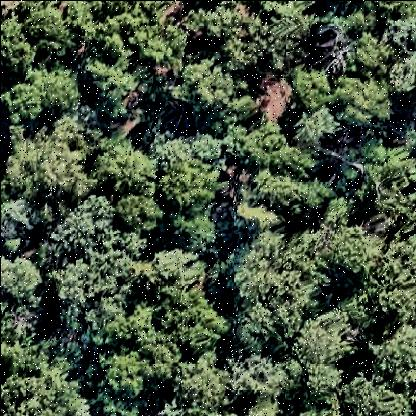tree-top: (111, 297, 219, 376), (240, 233, 323, 334), (2, 135, 90, 223), (83, 11, 159, 101), (58, 250, 142, 320), (224, 122, 318, 178), (2, 66, 88, 126), (353, 249, 416, 325), (52, 195, 121, 261), (299, 305, 365, 373), (158, 159, 232, 219), (238, 174, 336, 219), (2, 369, 95, 416), (345, 141, 409, 209), (294, 76, 392, 119), (177, 347, 238, 411), (304, 223, 375, 276), (12, 2, 78, 59), (171, 62, 236, 119), (95, 140, 155, 196), (371, 328, 416, 402), (328, 377, 411, 416), (230, 345, 293, 395), (110, 188, 168, 239), (98, 351, 152, 403), (221, 24, 274, 73), (287, 109, 347, 152), (2, 255, 50, 308), (151, 248, 199, 298), (89, 61, 132, 113), (171, 202, 219, 245), (2, 20, 39, 75)
